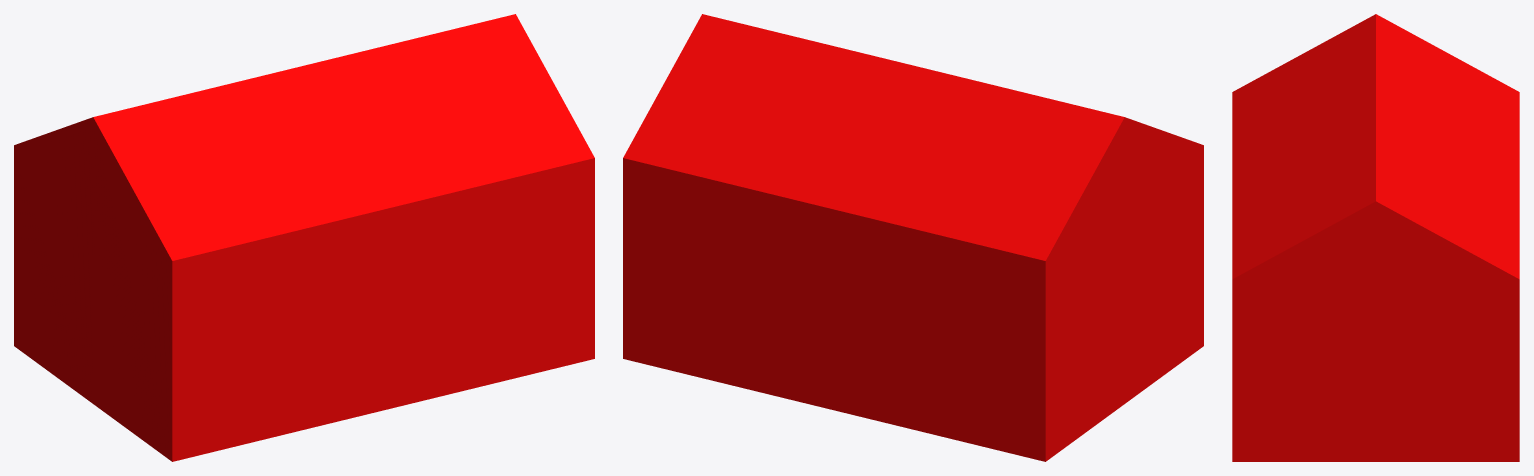
Rendered from Settlement_Red.fbx.
3 views of the same model, side by side, from view 1: azimuth 30°, elevation 25°; view 2: azimuth 150°, elevation 25°; view 3: azimuth 270°, elevation 25° (orthographic). The views are drawn at different scales.
Visible parts, largest first — view 1: Cube; view 2: Cube; view 3: Cube.
Boxes of the visible parts, bbox=[...] form: Cube: bbox=[14, 14, 594, 461]; Cube: bbox=[623, 14, 1203, 461]; Cube: bbox=[1232, 14, 1519, 461].
Bounding box in the file's own units: 308 × 200 × 200.
